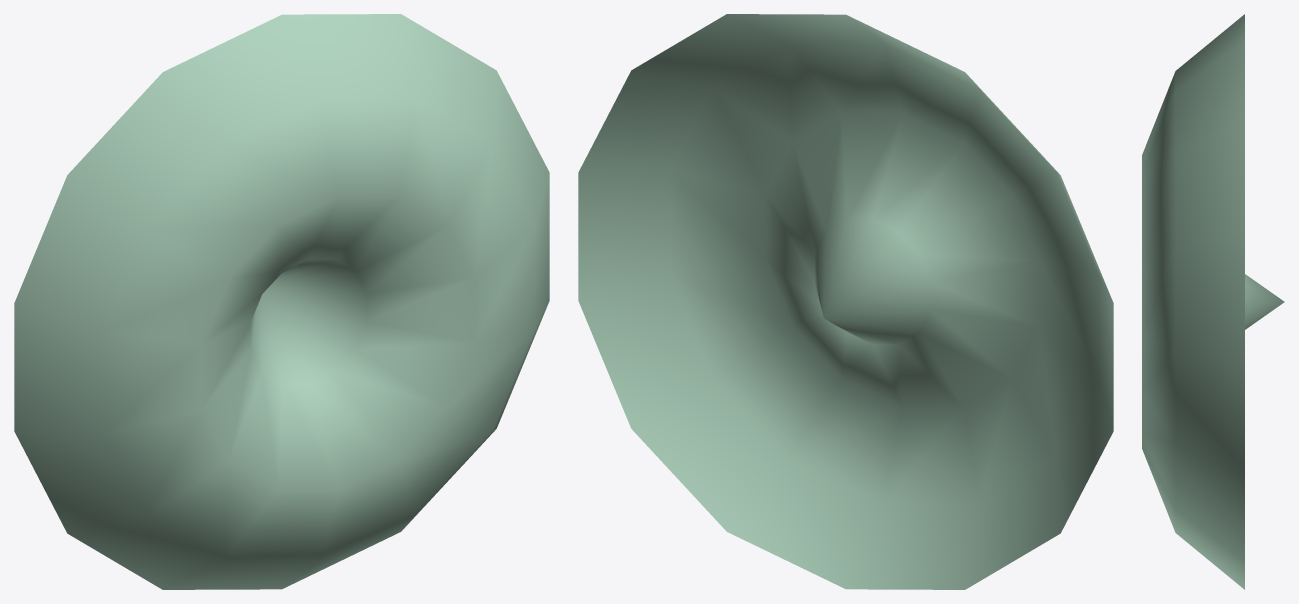
The model's file is mesh_warp01.fbx.
3 views of the same model, side by side, from view 1: azimuth 30°, elevation 25°; view 2: azimuth 150°, elevation 25°; view 3: azimuth 270°, elevation 25° (orthographic). The views are drawn at different scales.
Parts seen in each view (by area): view 1: warp01; view 2: warp01; view 3: warp01.
Part boxes in pixels (x1,y1,x2,y2): warp01: [14, 14, 549, 589]; warp01: [578, 14, 1113, 589]; warp01: [1142, 14, 1284, 589].
Bounding box in the file's own units: 237 × 243 × 60.31.
